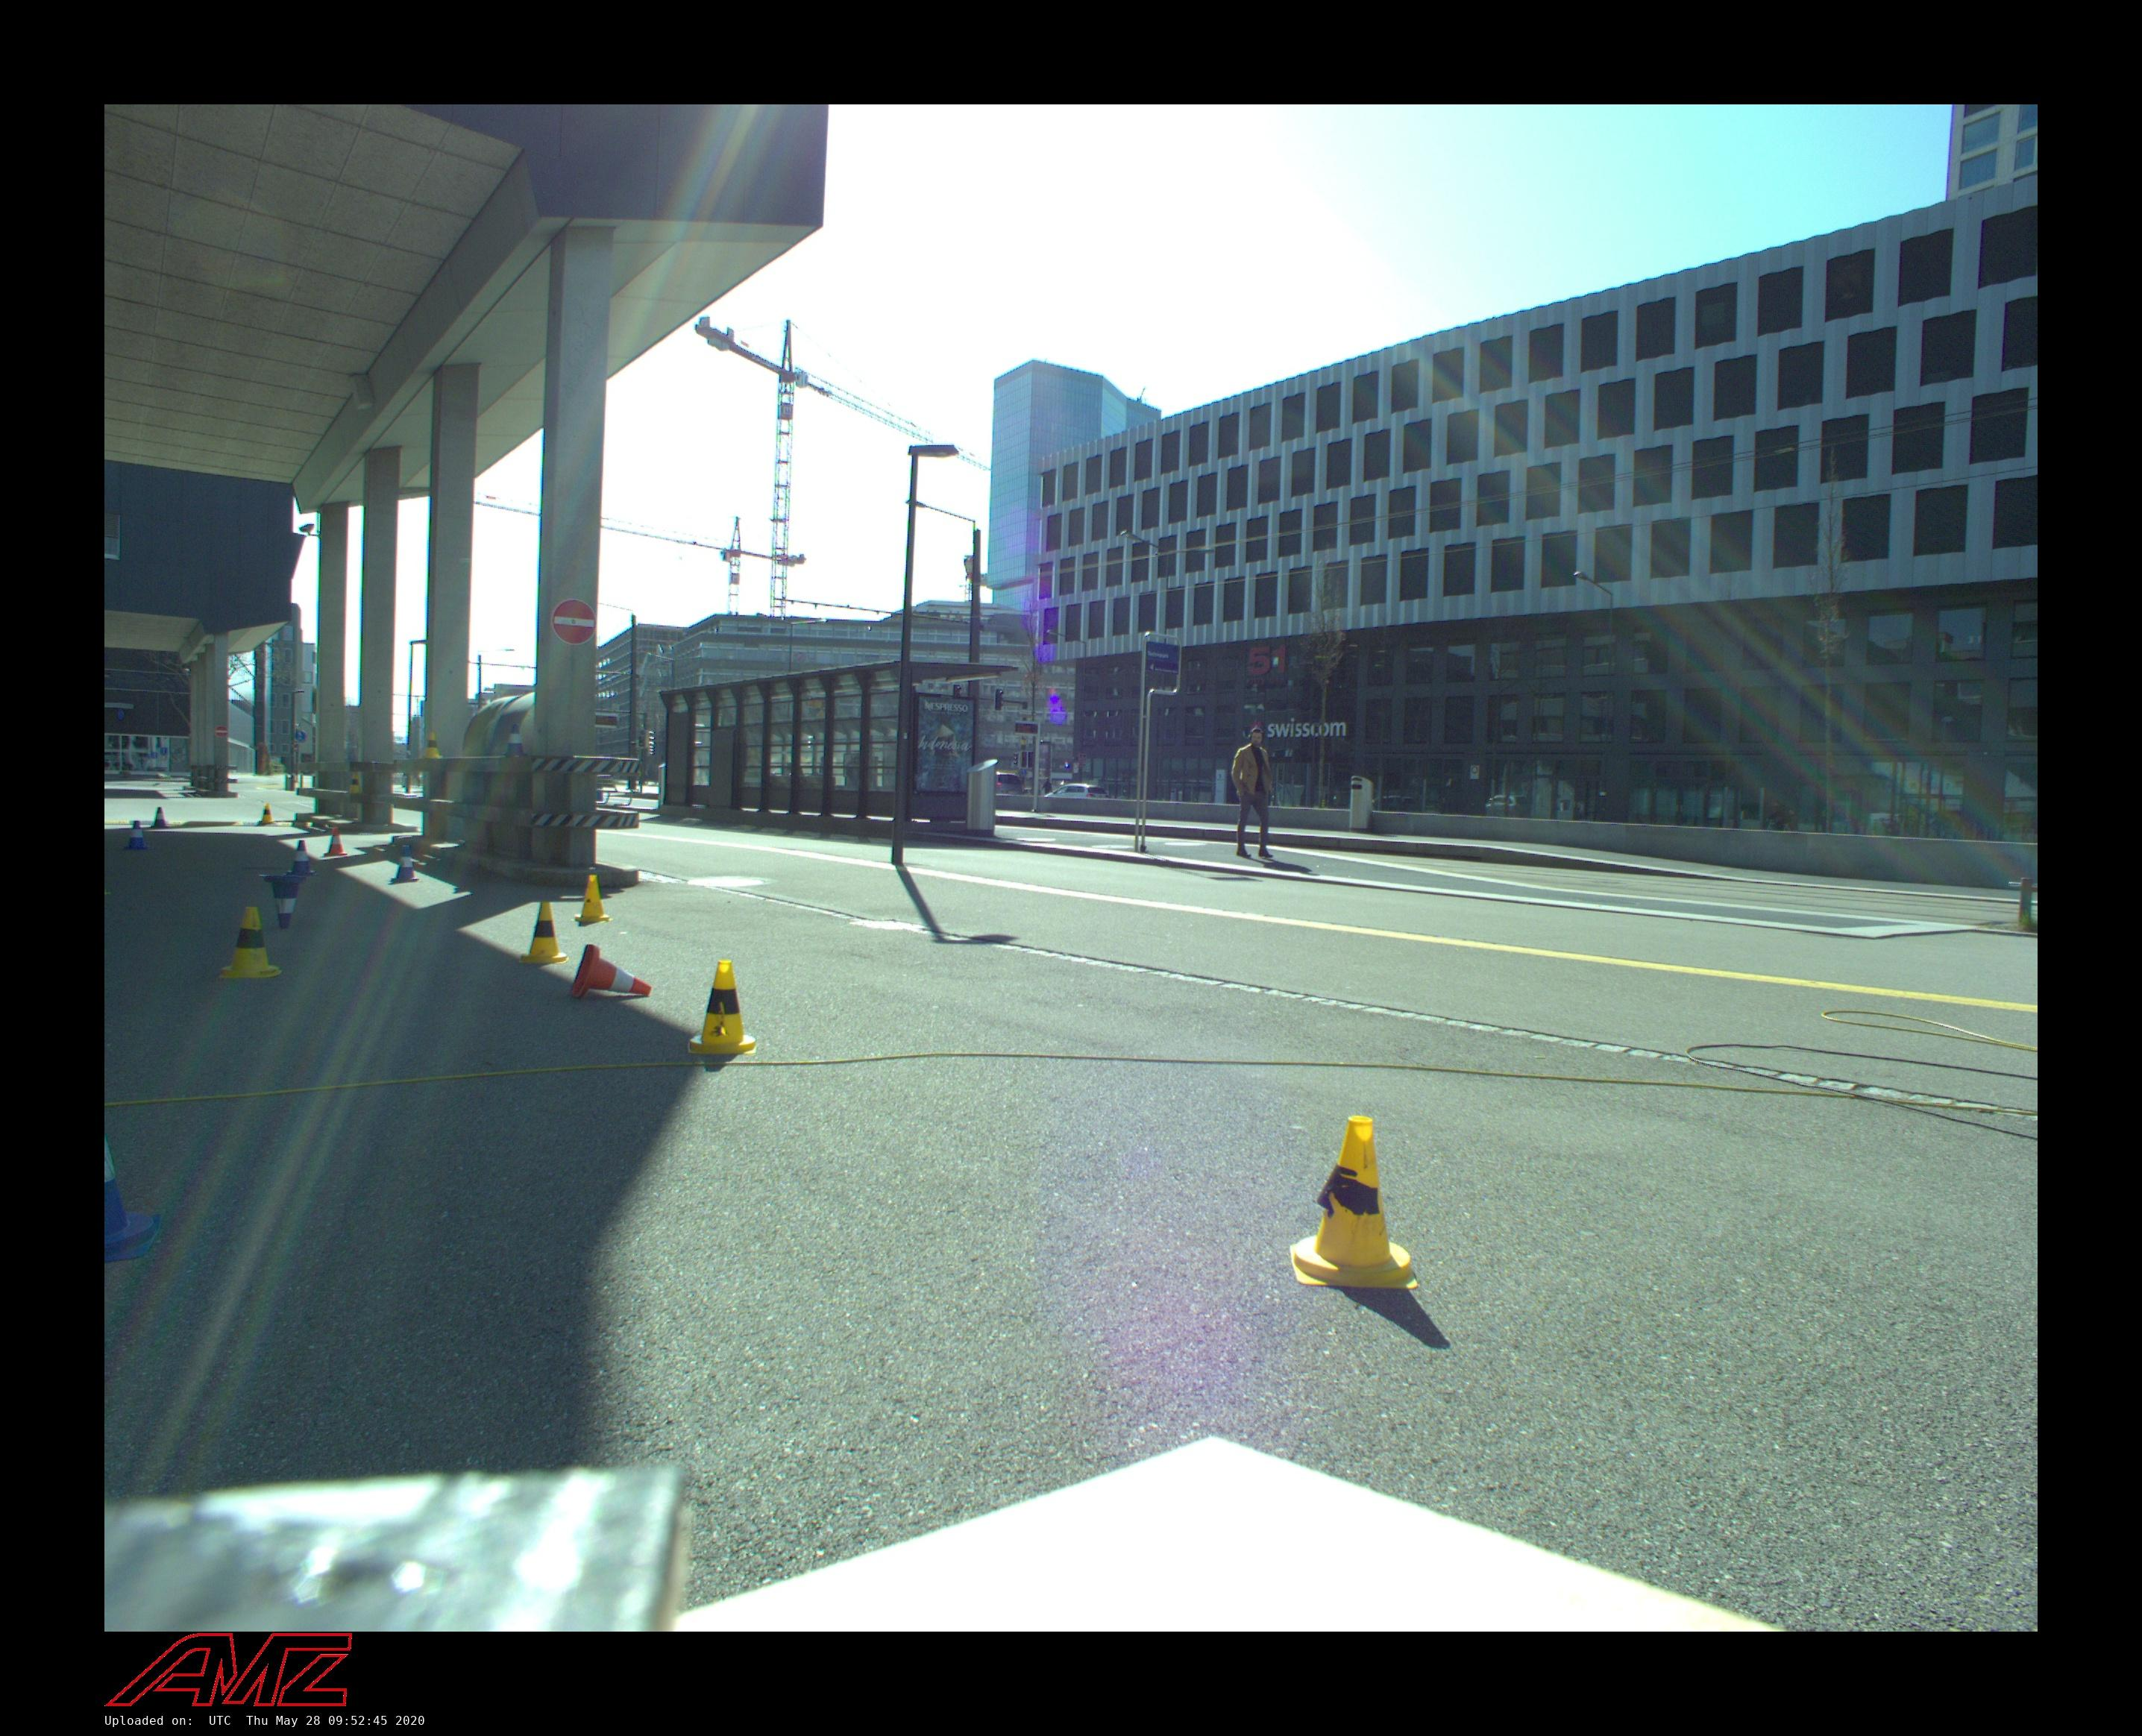blue_cone: (259, 875, 308, 930), (392, 845, 420, 882), (285, 840, 315, 873), (122, 820, 151, 850), (501, 725, 528, 756), (151, 806, 170, 829)
orange_cone: (569, 944, 652, 999), (322, 827, 347, 857)
yellow_cone: (1288, 1116, 1417, 1290), (687, 958, 757, 1054), (220, 907, 283, 980), (519, 900, 570, 965), (570, 875, 613, 923), (422, 732, 443, 758), (347, 772, 363, 794), (260, 802, 275, 824)
